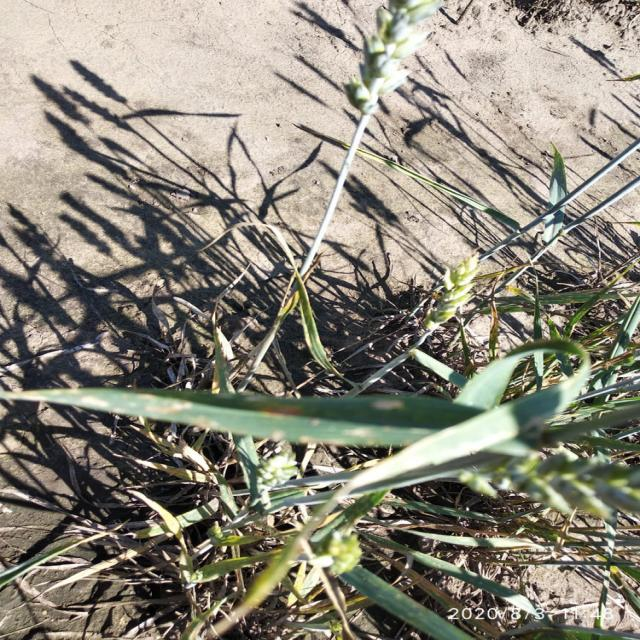wheat-powdery-mildew: (11, 389, 470, 446)
